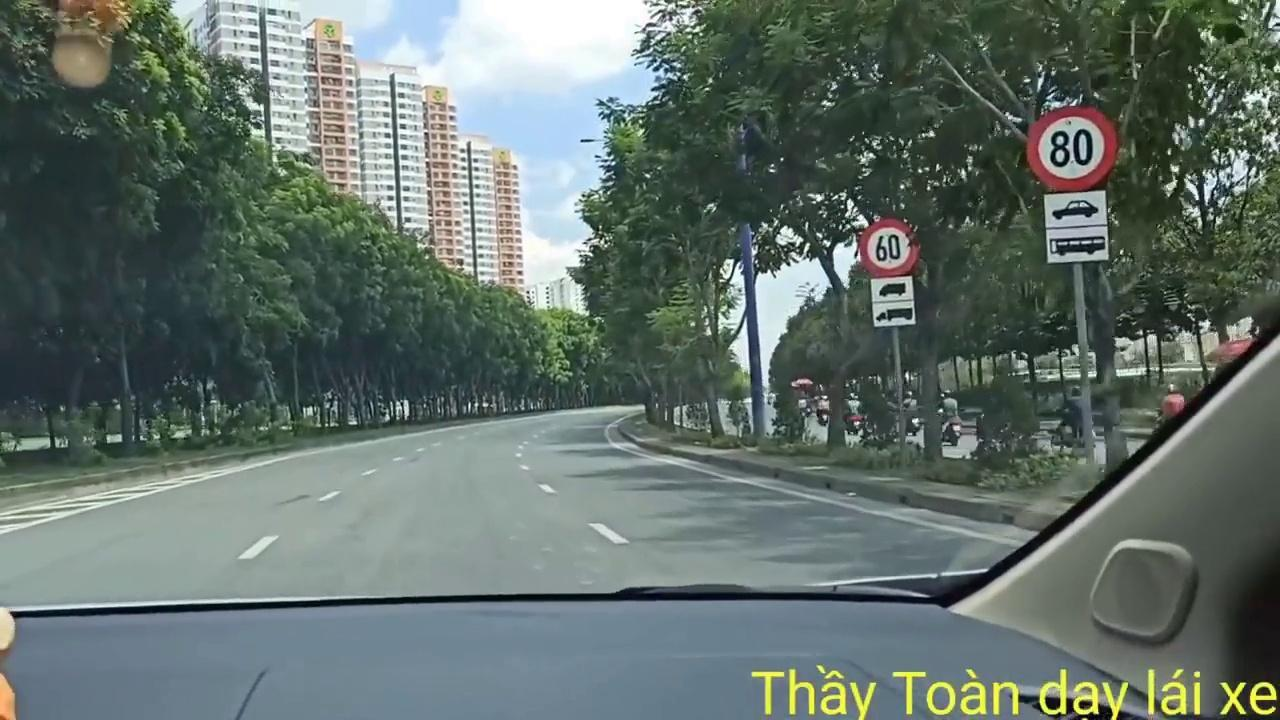Biển phụ: (1042, 191, 1110, 263), (868, 276, 918, 326)
GIơi hạn tốc độ 60Km/h: (859, 216, 921, 276)
Giới hạn tốc độ 80Km/h: (1024, 101, 1119, 192)
